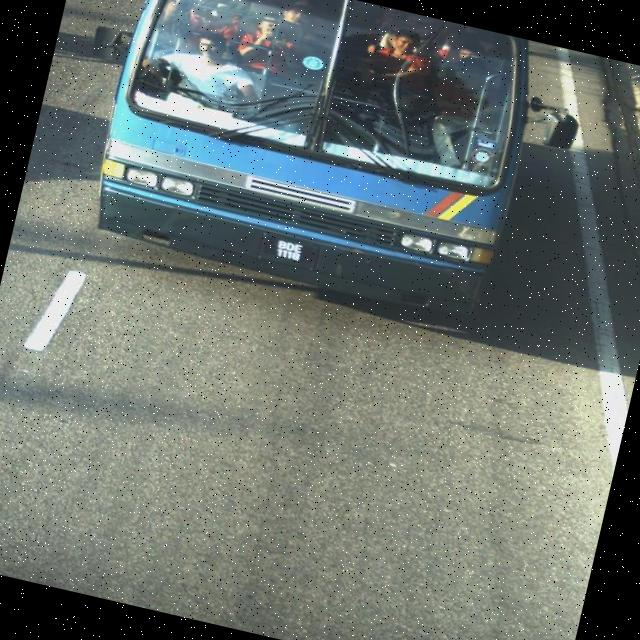License_Plate: (255, 227, 323, 280)
lorry: (50, 1, 597, 343)
